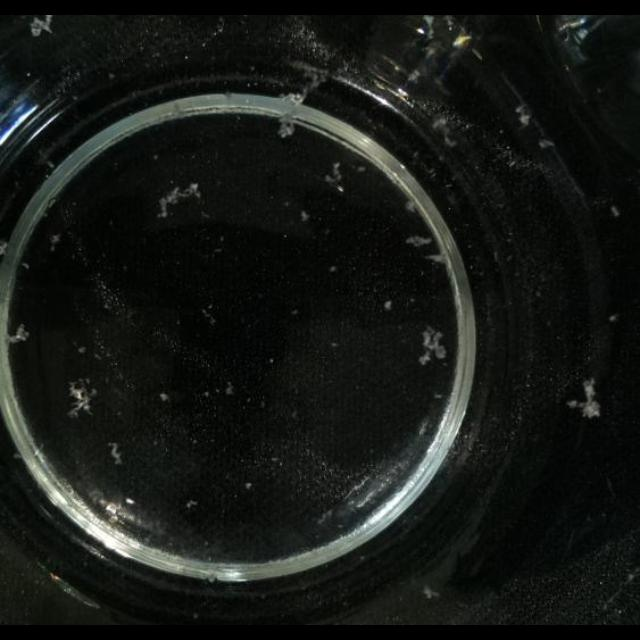Fibre: (274, 88, 308, 142), (156, 181, 204, 219), (566, 378, 600, 419), (66, 378, 98, 418), (419, 326, 449, 364), (431, 114, 462, 148), (22, 15, 56, 39), (323, 162, 345, 190), (6, 324, 30, 346), (106, 442, 124, 466), (404, 236, 432, 248), (422, 584, 440, 600), (225, 384, 235, 396)
microbeads: (611, 205, 621, 217), (158, 392, 170, 402), (300, 211, 310, 223), (383, 300, 392, 312), (608, 312, 618, 322)
